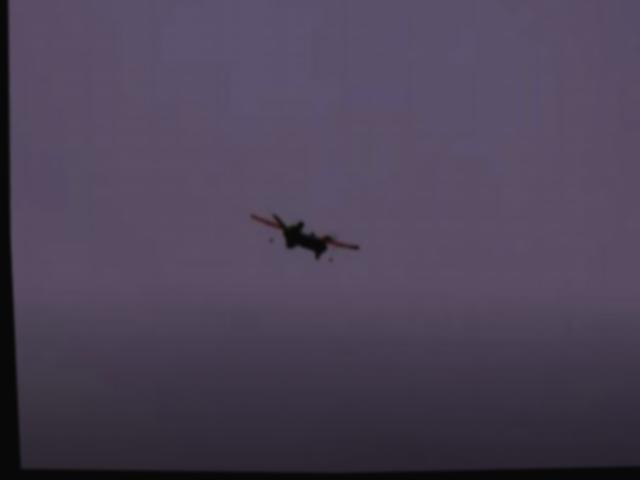iha: (243, 208, 364, 271)
